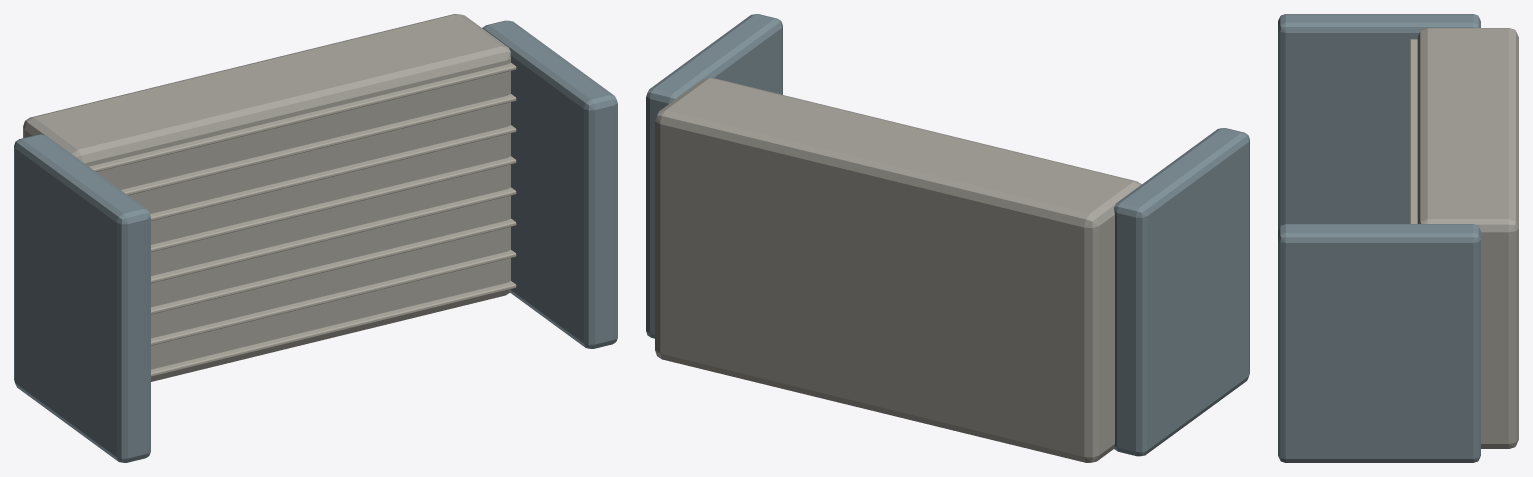
File: tower_column.glb
3 views of the same model, side by side, from view 1: azimuth 30°, elevation 25°; view 2: azimuth 150°, elevation 25°; view 3: azimuth 270°, elevation 25° (orthographic). The views are drawn at different scales.
Parts seen in each view (by area): view 1: tower_column_Palette; view 2: tower_column_Palette; view 3: tower_column_Palette.
Boxes of the visible parts, x1,y1,x2,y2 form: tower_column_Palette: [14, 14, 617, 462]; tower_column_Palette: [646, 14, 1249, 462]; tower_column_Palette: [1278, 14, 1518, 462].
Size of the model in its own units: 2.1 by 1 by 0.95.
